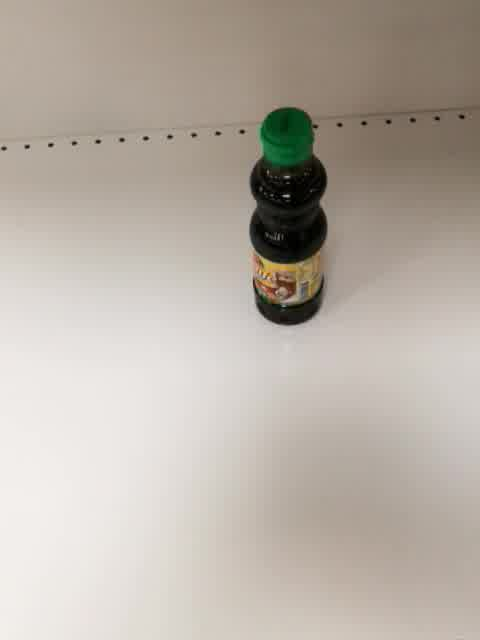cookingoil: (244, 103, 332, 328)
